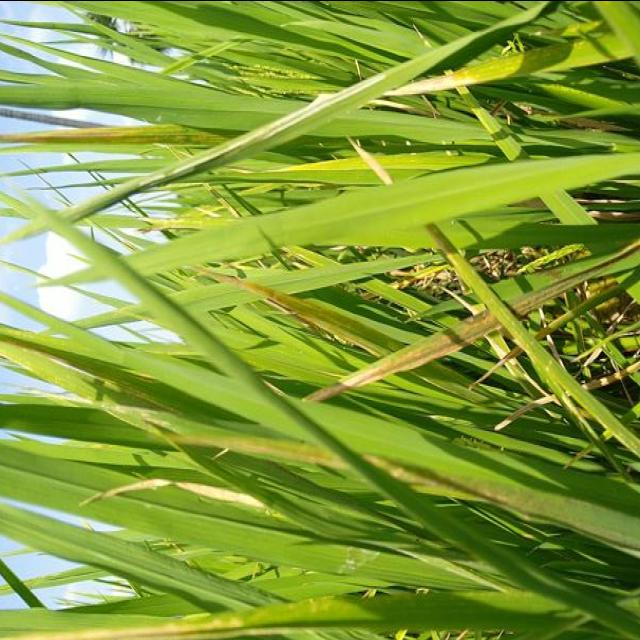Leaf Blight: (0, 613, 232, 640)
Leaf Streak: (305, 307, 501, 400), (358, 454, 538, 513), (197, 268, 358, 330), (511, 265, 611, 316), (4, 124, 173, 152), (245, 430, 349, 469), (428, 223, 470, 288), (349, 137, 394, 185), (393, 76, 471, 94)
